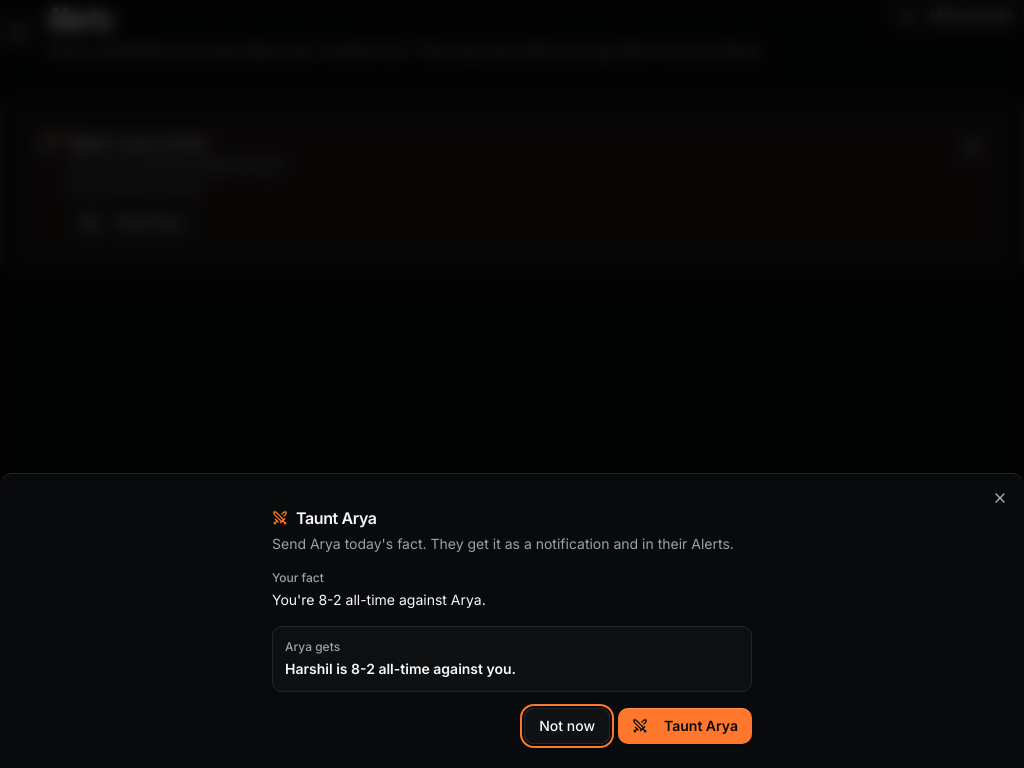
Test: AlertsPage › opens the taunt from the push and marks the fact read
Expected: the dialog shows "Arya gets", [0, 473, 1023, 767]
Click the button "Taunt Arya" at [685, 726], box [618, 708, 752, 744]
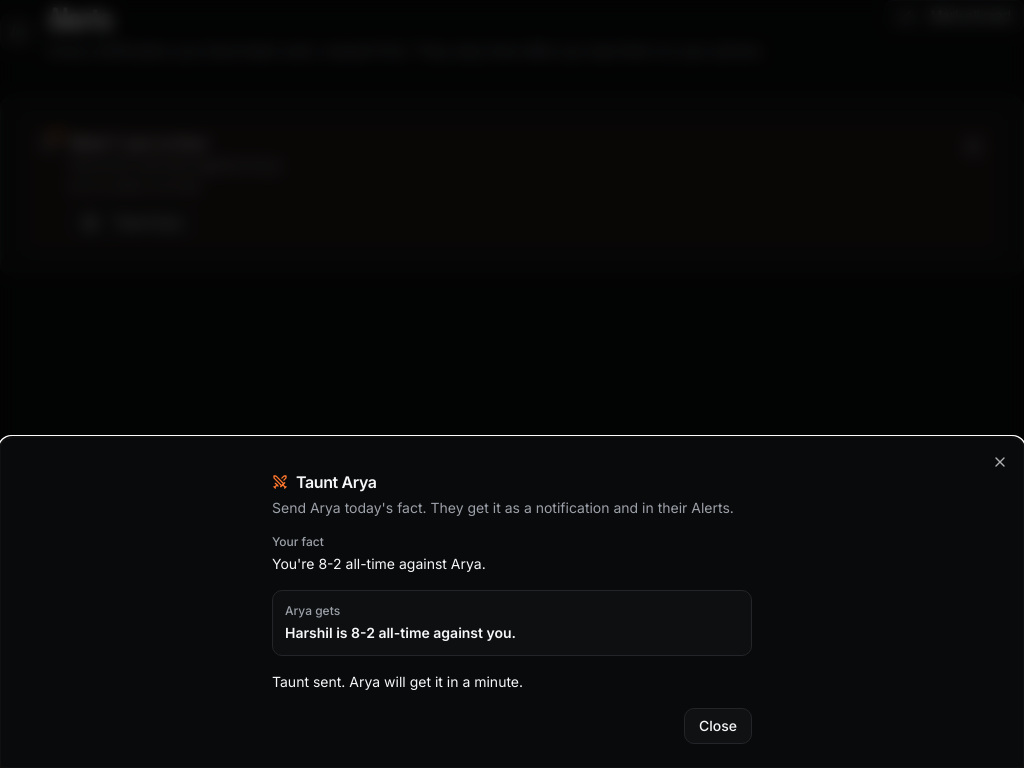
Result: the text "Taunt sent. Arya will get it in a minute." is shown at [272, 673, 523, 690]
